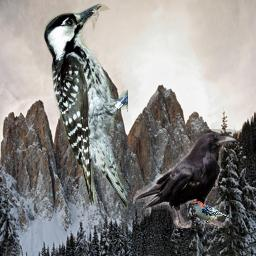Crow: (133, 129, 237, 228)
Woodpecker: (43, 3, 128, 210), (187, 201, 229, 224)
